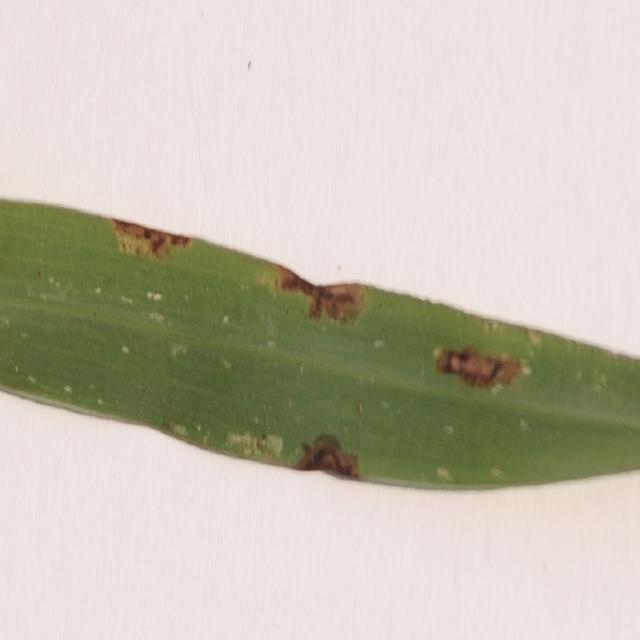brown spot: (268, 271, 368, 338), (433, 333, 530, 397), (112, 214, 186, 276), (298, 437, 366, 480)
